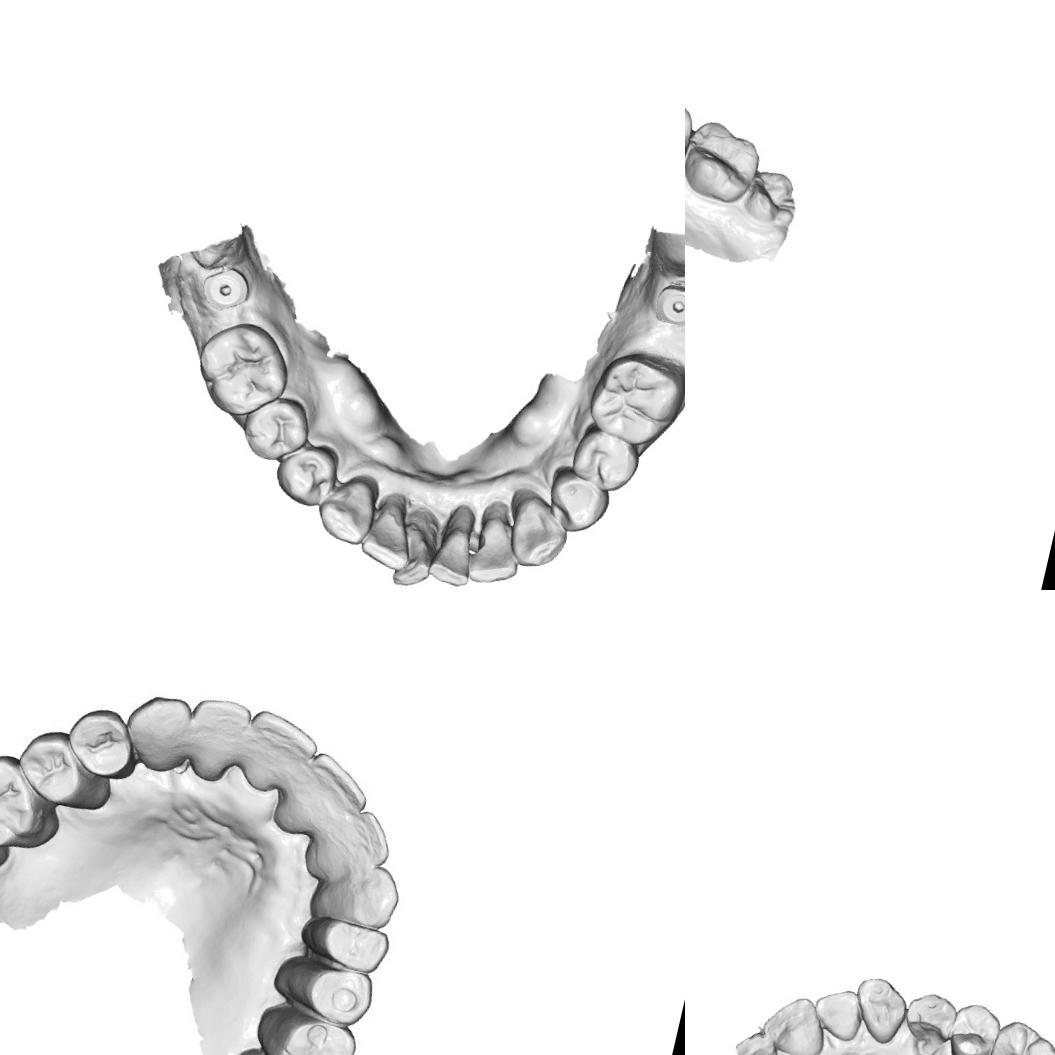canine: (308, 854, 404, 936), (118, 686, 196, 772), (313, 468, 384, 549), (504, 492, 574, 574), (845, 972, 913, 1048)
implant: (198, 257, 256, 316), (646, 273, 685, 333)
incisor: (270, 747, 368, 846), (230, 706, 320, 803), (302, 800, 396, 888), (183, 696, 250, 782), (758, 989, 834, 1055), (358, 499, 420, 574), (467, 517, 526, 590), (425, 515, 482, 590), (808, 981, 868, 1044), (387, 521, 441, 590), (726, 1024, 793, 1055)
molar: (188, 314, 296, 426), (581, 345, 685, 454), (0, 745, 70, 861), (685, 115, 766, 208), (258, 1004, 361, 1055), (979, 1016, 1055, 1055)
premolar: (16, 725, 113, 809), (236, 387, 316, 470), (283, 960, 375, 1032), (302, 911, 396, 977), (567, 423, 644, 500), (62, 704, 140, 780), (269, 435, 342, 513), (540, 462, 612, 540), (900, 987, 960, 1050), (942, 998, 1005, 1055)
